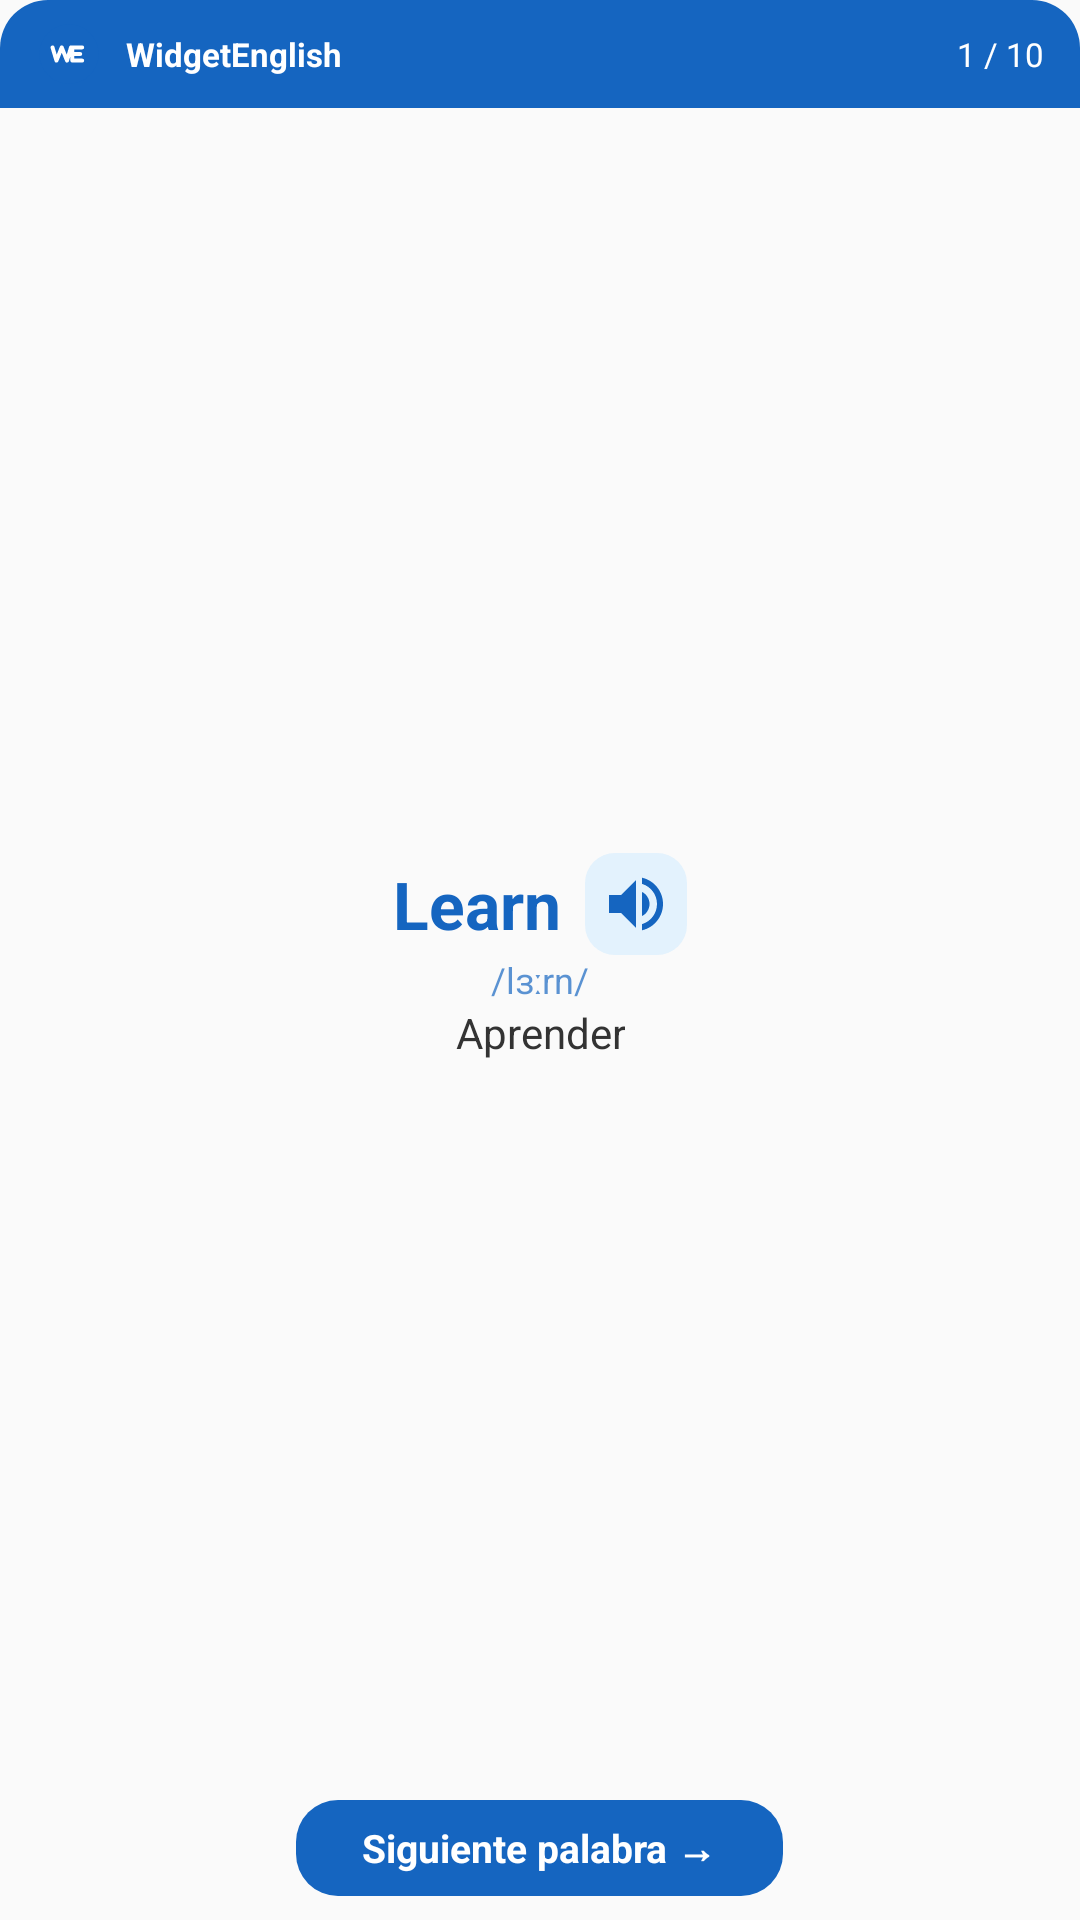

Icons on this 1080*1920 Android screen, each with its box as detection(x1, y1, x2, y2):
volume up: detection(585, 853, 687, 955)
